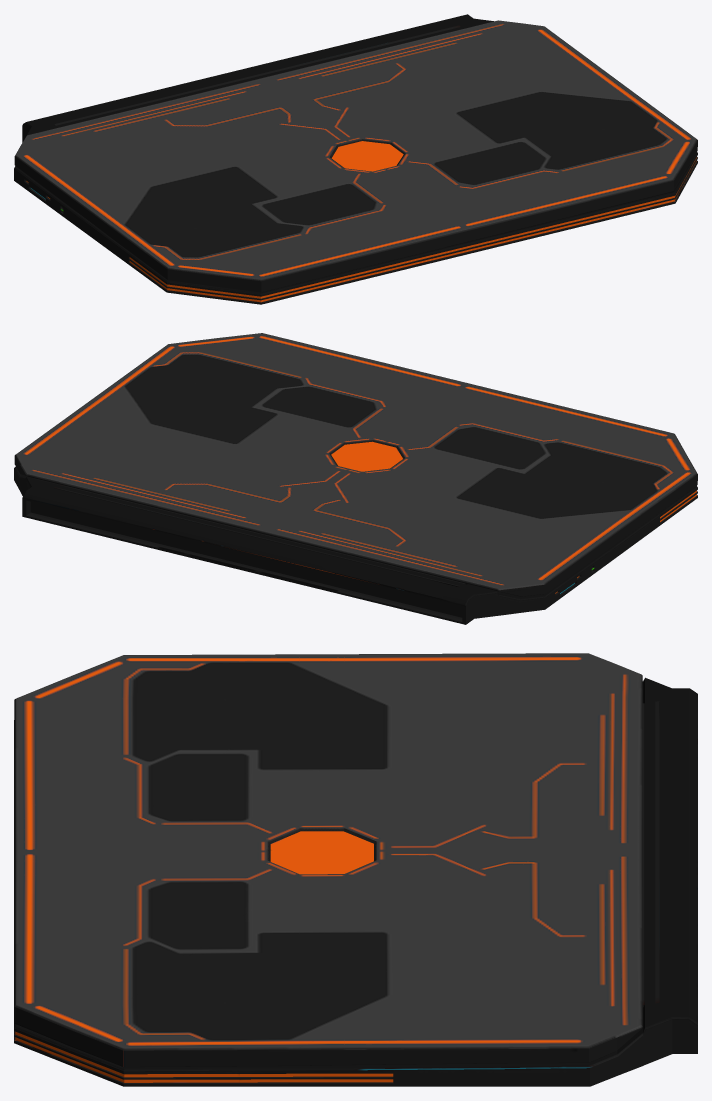
File: Lap.fbx
The picture shows the model from 3 angles, top to bottom: view 1: azimuth 30°, elevation 25°; view 2: azimuth 150°, elevation 25°; view 3: azimuth 270°, elevation 25°; orthographic projection. The views are drawn at different scales.
Parts seen in each view (by area): view 1: Screen, Lap; view 2: Screen, Lap; view 3: Screen, Lap.
Boxes of the visible parts, left/top/right/bottom form: Screen: left=14, top=20, right=697, bottom=292; Lap: left=14, top=14, right=697, bottom=304; Screen: left=14, top=333, right=697, bottom=596; Lap: left=14, top=466, right=697, bottom=624; Screen: left=14, top=653, right=659, bottom=1067; Lap: left=14, top=677, right=697, bottom=1086.
Bounding box in the file's own units: 42.65 × 2.02 × 31.18.
Materials: 1 (1 with a texture image).
